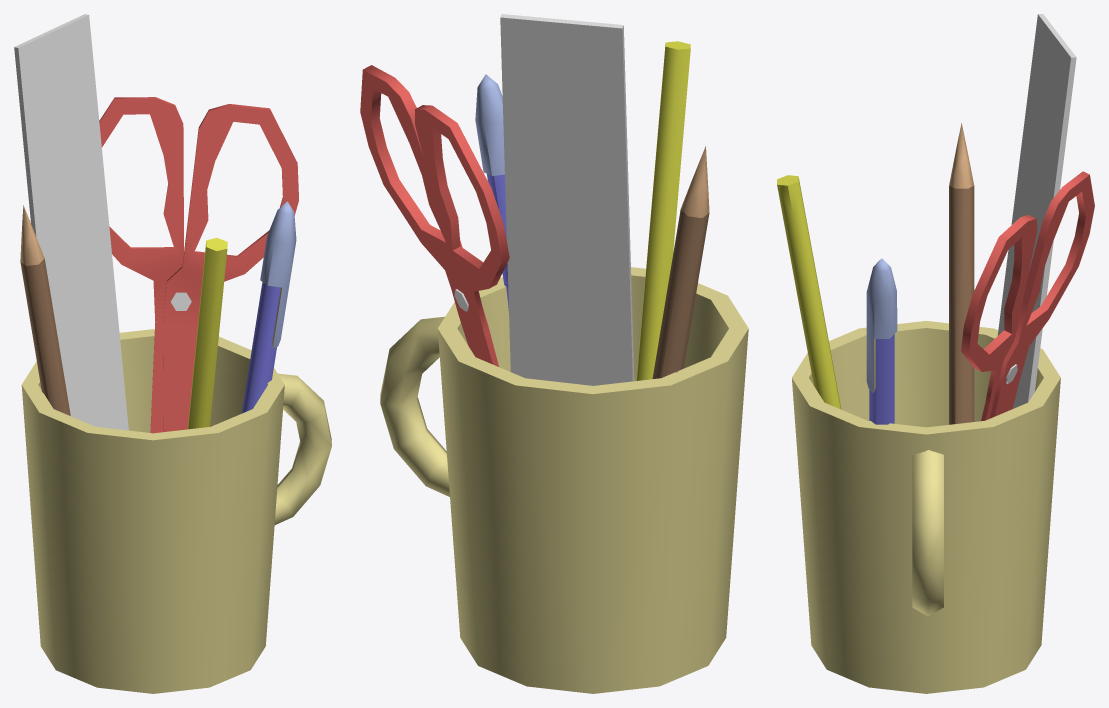
Rendered from mug assets.fbx.
3 renders of one model, left to right at view 1: azimuth 30°, elevation 25°; view 2: azimuth 150°, elevation 25°; view 3: azimuth 270°, elevation 25°, orthographic. The views are drawn at different scales.
Visible parts, largest first — view 1: mug assets; view 2: mug assets; view 3: mug assets.
Part boxes in pixels (x1,y1,x2,y2): mug assets: [14, 14, 331, 693]; mug assets: [360, 14, 748, 693]; mug assets: [777, 14, 1094, 693].
Bounding box in the file's own units: 0.57 × 1.07 × 0.5231.
